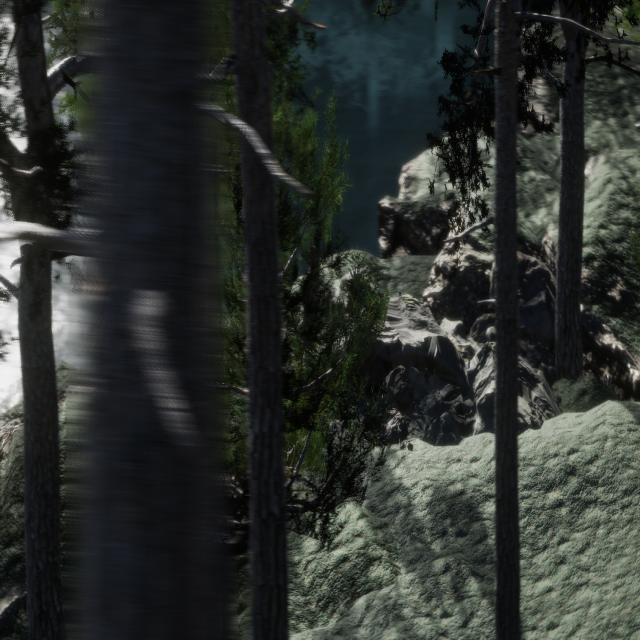Human: (317, 243, 358, 306)
